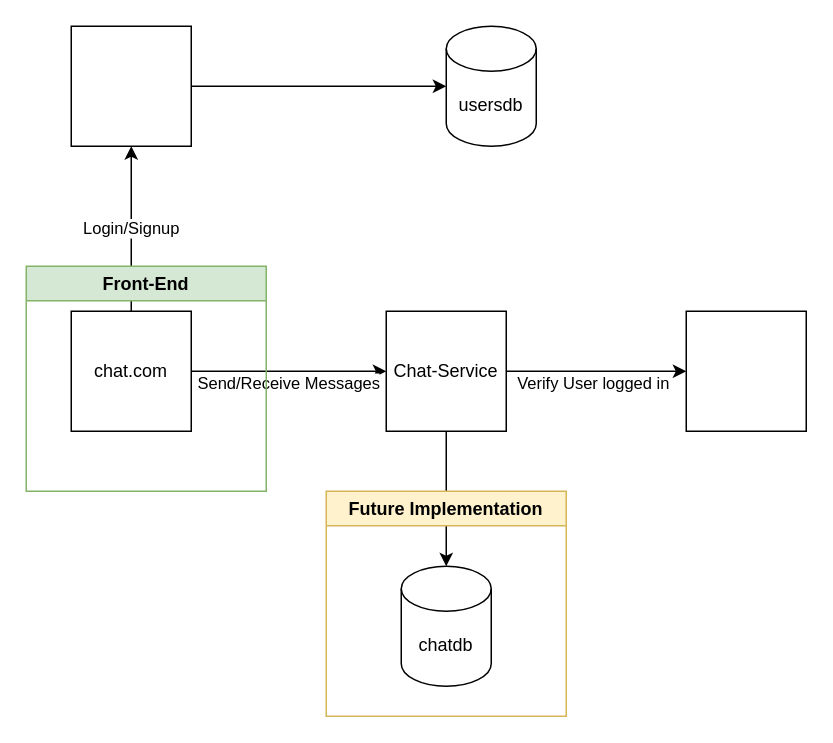
Some shapes in this 833 by 743 pixel diagram are drawn without their labels. The shapes that lost their labels are listed below. From the top down, each one's box as (x1, y1, x2, y2) in pixels, then its label:
(70, 25, 191, 146): Auth-Service
(685, 310, 806, 431): Authenticate
